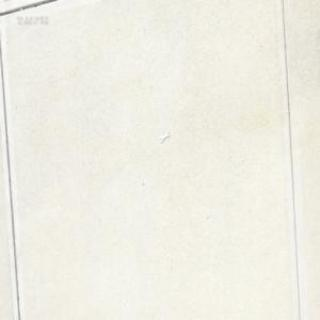Wrenchtrack_idkeyframe: (160, 130, 170, 142)
